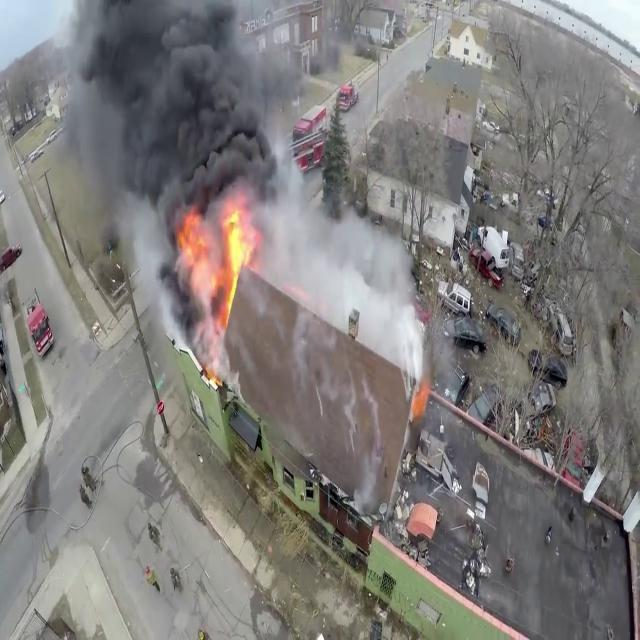Fire: (178, 192, 259, 336)
Smoke: (56, 0, 302, 203), (266, 188, 426, 384)
